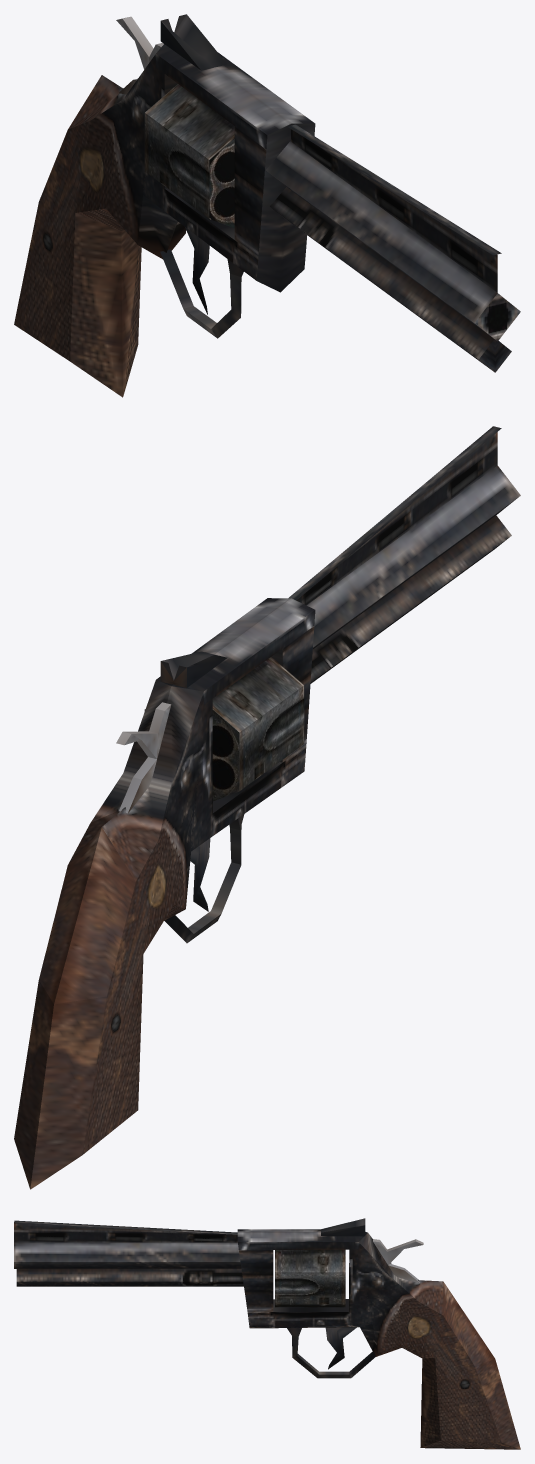
File: Revolver.fbx
3 renders of one model, top to bottom at view 1: azimuth 30°, elevation 25°; view 2: azimuth 150°, elevation 25°; view 3: azimuth 270°, elevation 25°, orthographic. The views are drawn at different scales.
Visible parts, largest first — view 1: CPBody, CPCyilnder, CPTrigger&Hammer; view 2: CPBody, CPCyilnder, CPTrigger&Hammer; view 3: CPBody, CPCyilnder, CPTrigger&Hammer.
Part boxes in pixels (x1=…): CPBody: x1=14, y1=14, x2=520, y2=397; CPCyilnder: x1=144, y1=84, x2=234, y2=228; CPTrigger&Hammer: x1=116, y1=16, x2=209, y2=314; CPBody: x1=14, y1=426, x2=520, y2=1189; CPCyilnder: x1=144, y1=656, x2=304, y2=801; CPTrigger&Hammer: x1=116, y1=702, x2=210, y2=911; CPBody: x1=14, y1=1218, x2=520, y2=1449; CPCyilnder: x1=275, y1=1249, x2=345, y2=1307; CPTrigger&Hammer: x1=325, y1=1239, x2=423, y2=1369.
Bounding box in the file's own units: 3.91 × 16.57 × 33.39.
4 materials, 4 textured.
